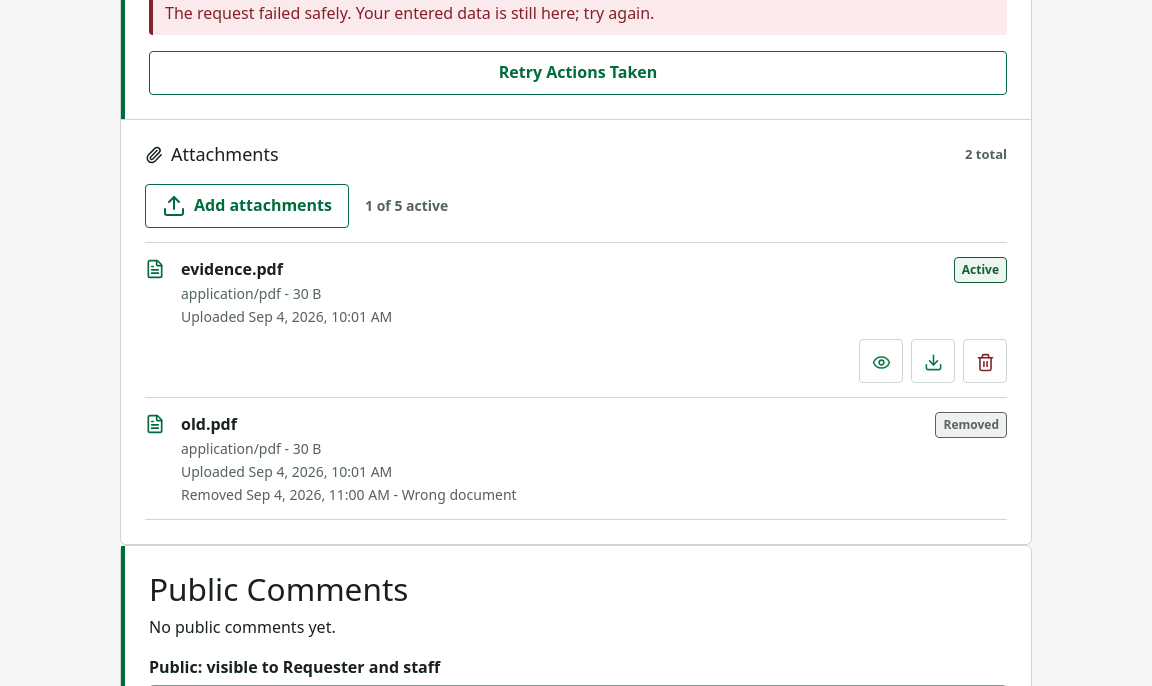
Ticket Detail attachment section › preserves the removal reason when the API fails so it can be retried
(page scrolled)
Click the button named "Remove evidence.pdf" at (985, 360), box [963,338,1007,382]
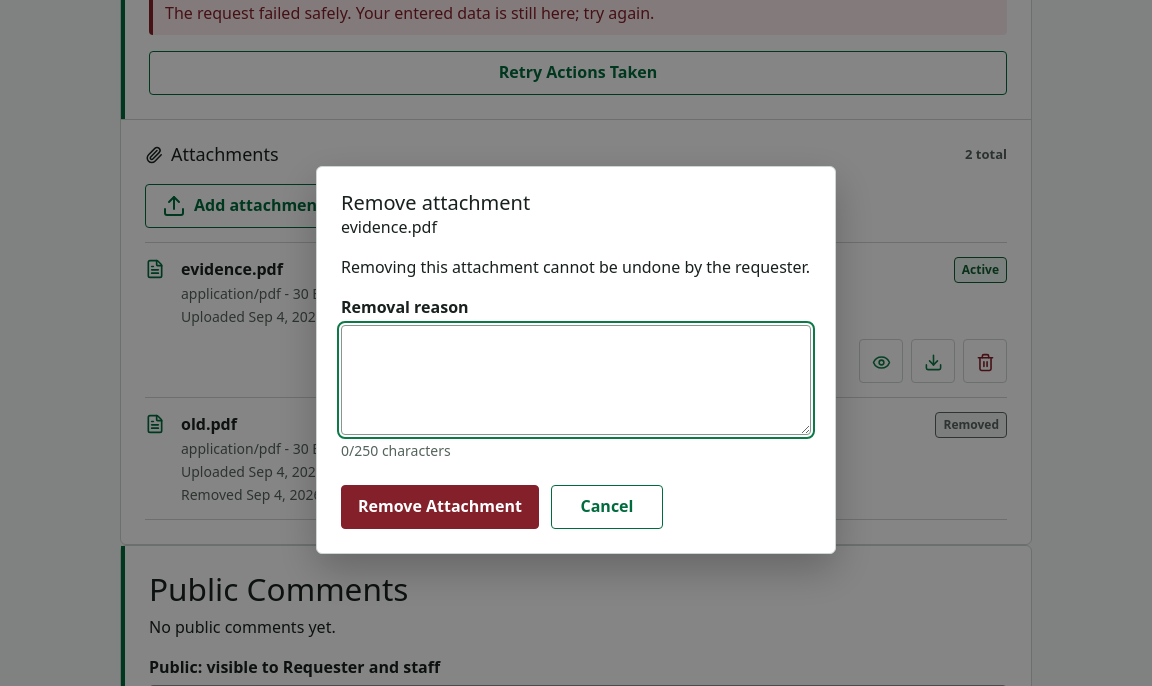
Type "Keep this reason for retry" into the text box labelled "Removal reason" at (576, 380), box [341,325,811,435]
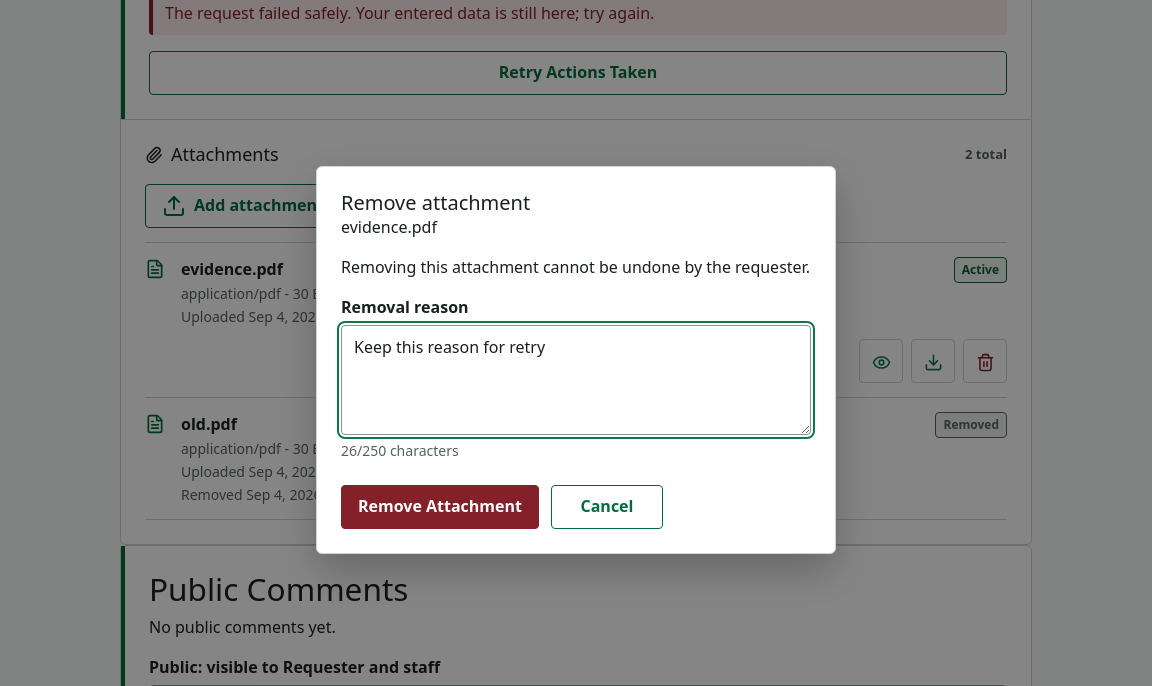
Click the button "Remove Attachment" at (440, 507), box [341,485,539,529]
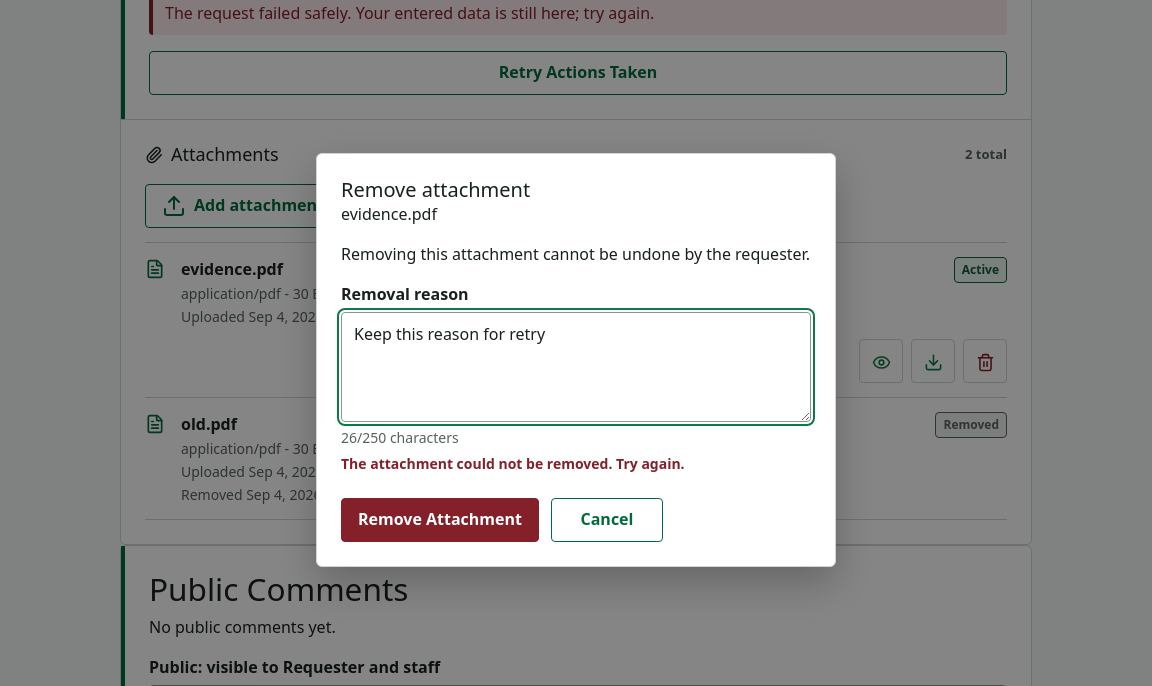
Result: the dialog is shown at [316,153,836,567]
Result: the text "The attachment could not be removed. Try again." is shown at [341,454,685,473]
